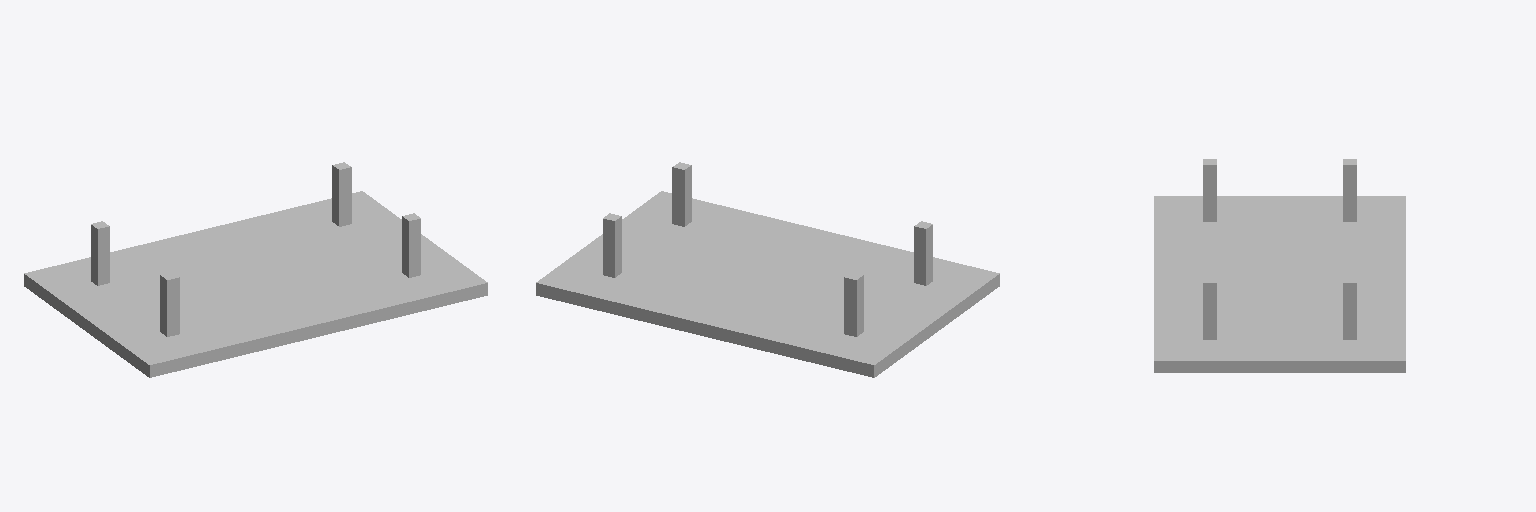
File: table23.obj
The picture shows the model from 3 angles: view 1: azimuth 30°, elevation 25°; view 2: azimuth 150°, elevation 25°; view 3: azimuth 270°, elevation 25°; orthographic projection.
Visible parts, largest first — view 1: Cube; view 2: Cube; view 3: Cube.
Boxes of the visible parts, box(x1,y1,x2,y2) form: Cube: box(24, 162, 487, 377); Cube: box(536, 162, 999, 377); Cube: box(1154, 159, 1405, 372).
Bounding box in the file's own units: 140 × 27.5 × 90.